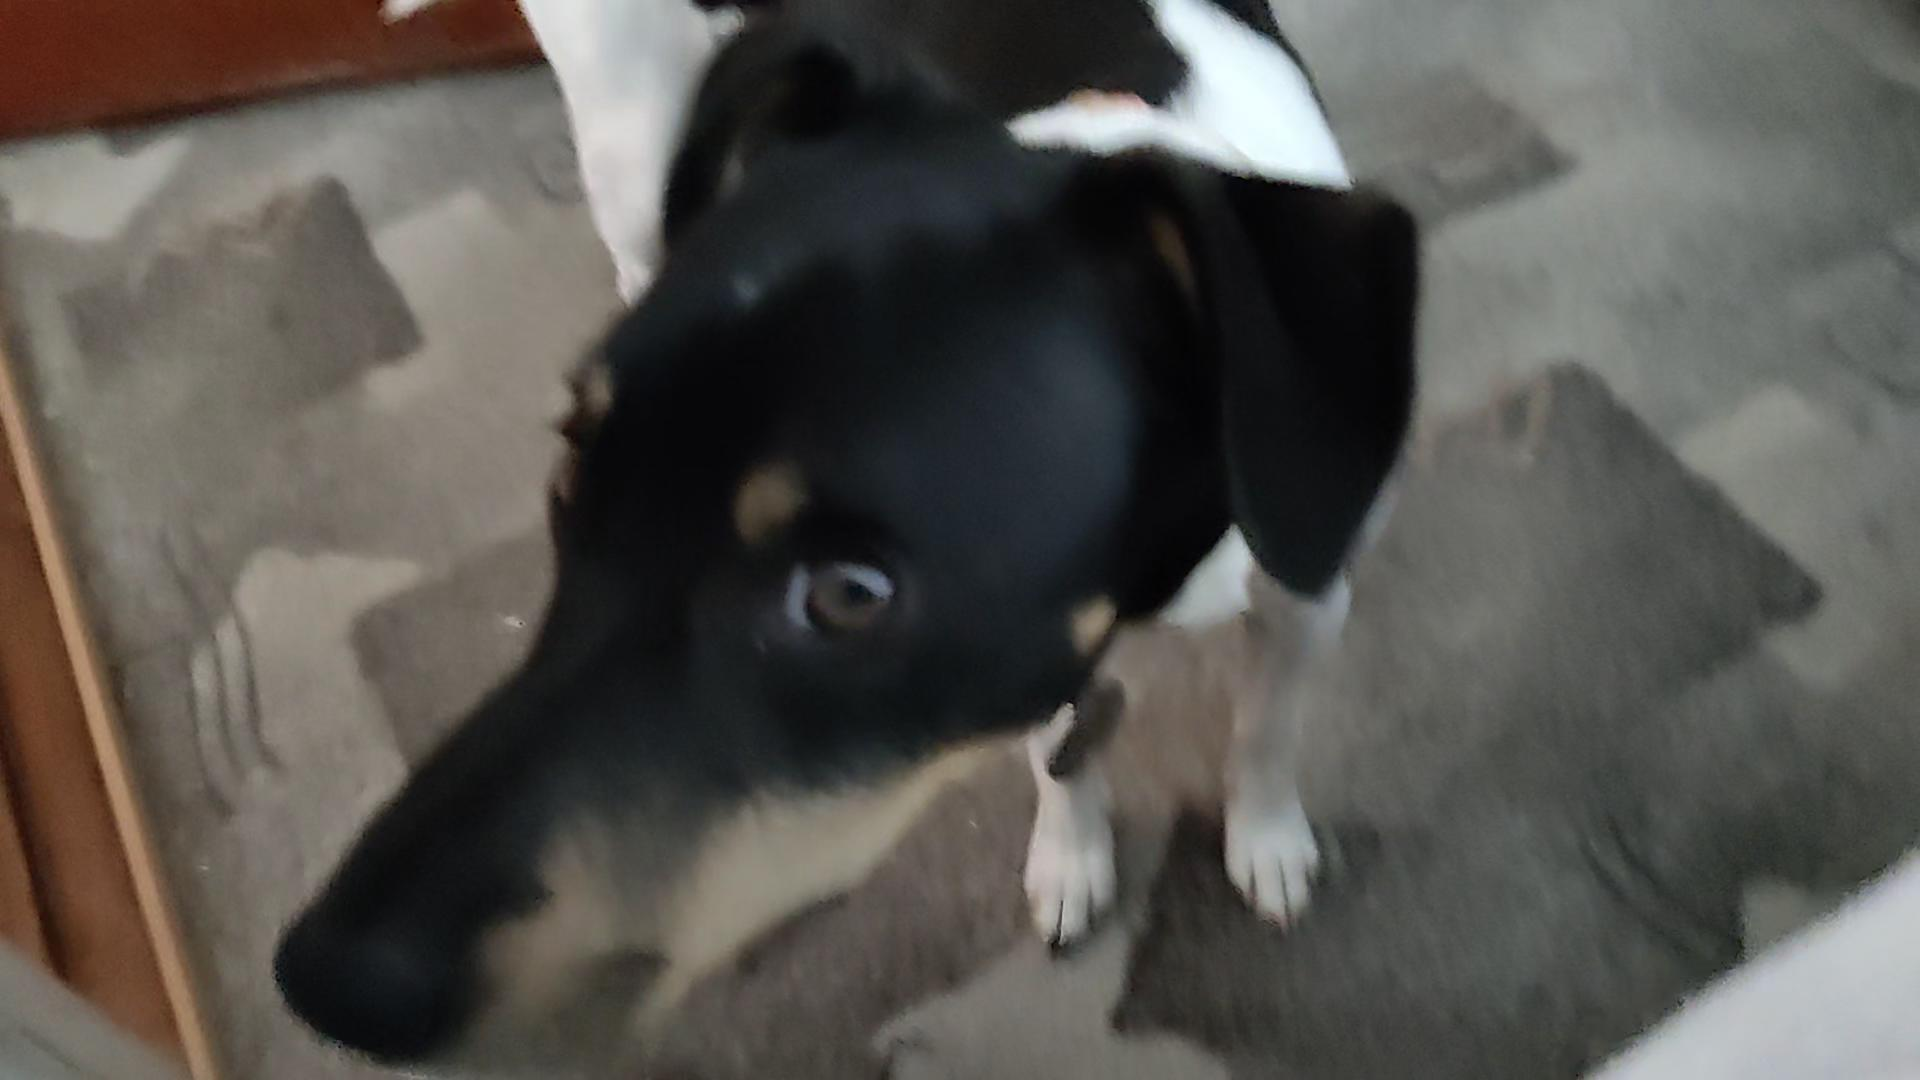Dog: (270, 0, 1433, 1075)
